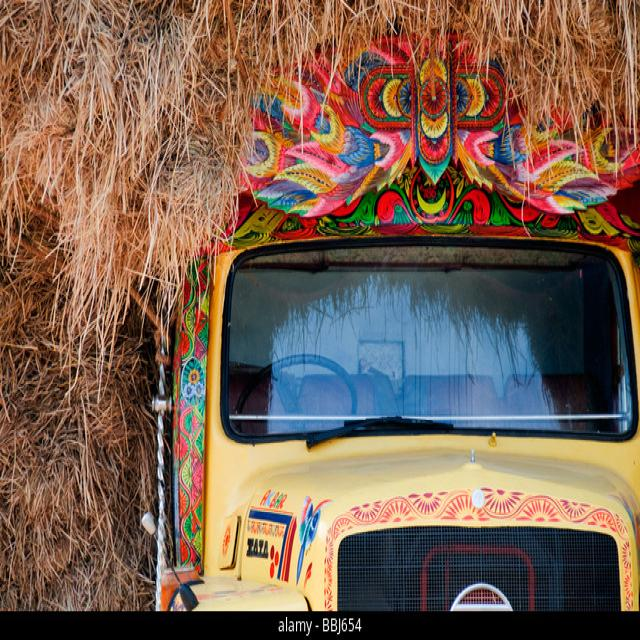normal_truck: (162, 36, 640, 610)
overloaded_truck: (0, 2, 640, 609)
